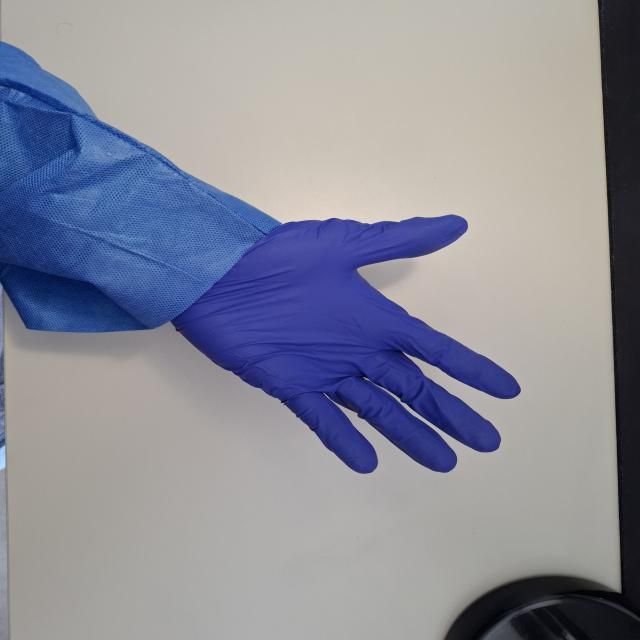glove_on: (163, 212, 525, 476)
